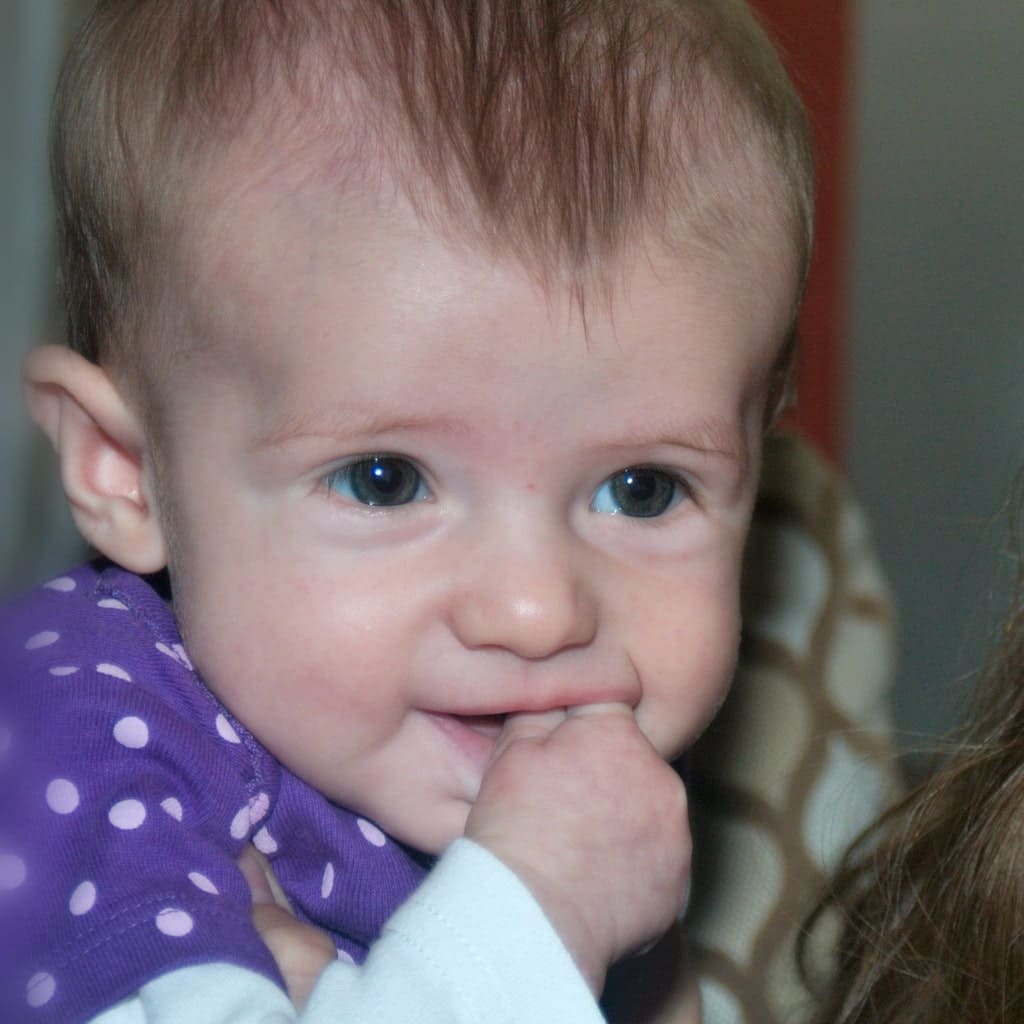without_mask: (199, 211, 725, 779)
